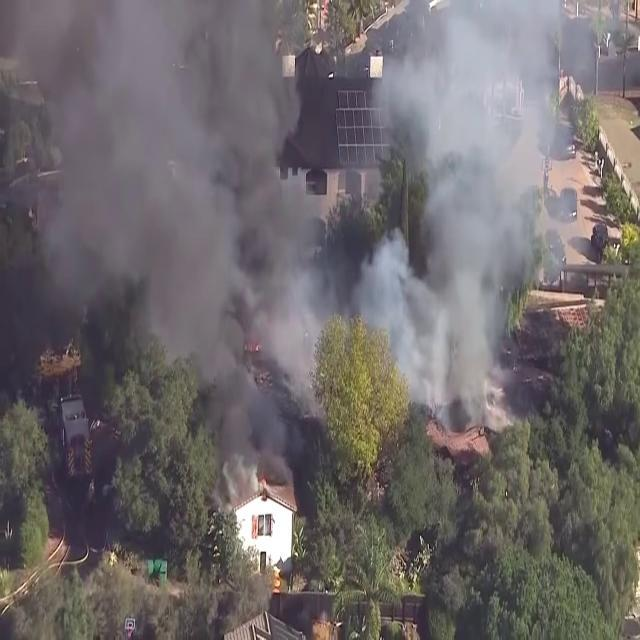Smoke: (0, 0, 371, 393), (378, 0, 576, 408)
